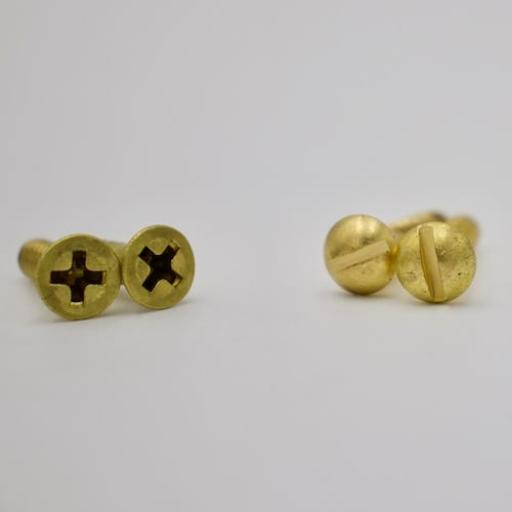Phillips: (36, 231, 120, 321), (125, 226, 195, 314)
Slotted: (394, 205, 476, 307), (320, 214, 394, 295)
